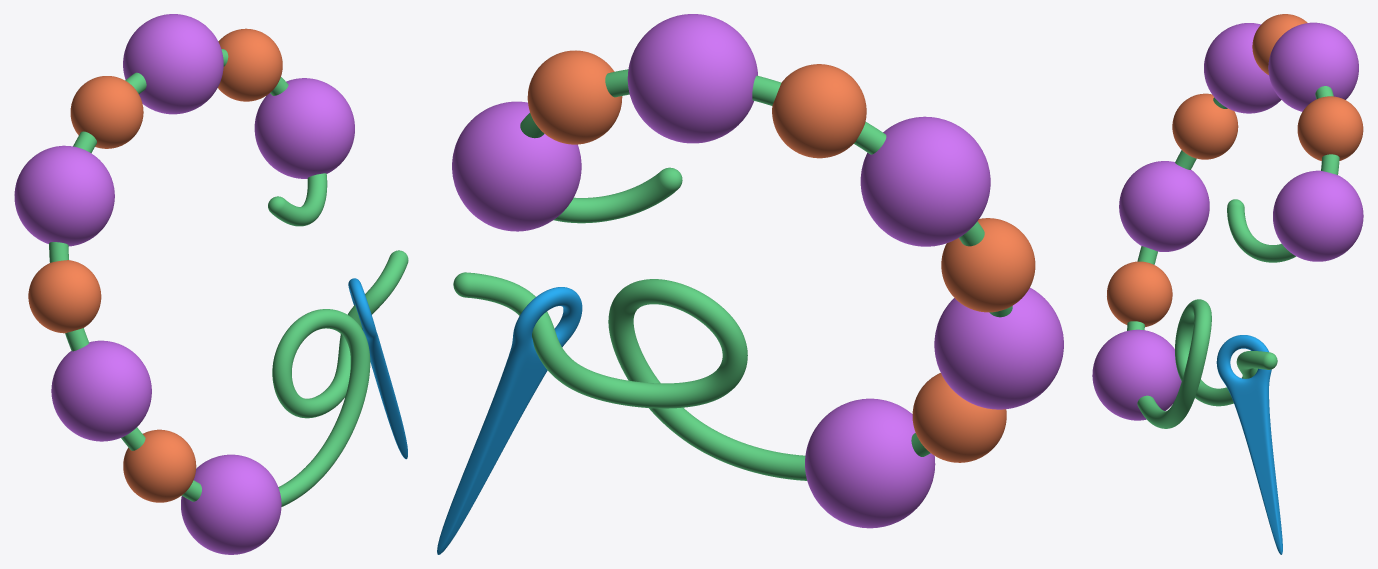
Rendered from 17. Beadwork.glb.
3 views of the same model, side by side, from view 1: azimuth 30°, elevation 25°; view 2: azimuth 150°, elevation 25°; view 3: azimuth 270°, elevation 25° (orthographic). The views are drawn at different scales.
Parts seen in each view (by area): view 1: Beads, Sphere.034, Sphere.036, Sphere.040, Sphere.038, Beads.001, Sphere.035, Sphere.033, Sphere.037, Sphere.039, Needle; view 2: Beads, Sphere.038, Sphere.036, Beads.001, Sphere.040, Sphere.034, Needle, Sphere.037, Sphere.039, Sphere.035, Sphere.033; view 3: Beads, Sphere.040, Sphere.034, Beads.001, Sphere.038, Needle, Sphere.036, Sphere.033, Sphere.039, Sphere.035, Sphere.037.
Boxes of the visible parts, x1,y1,x2,y2 form: Beads: (49,49,408,506); Sphere.034: (51,340,151,441); Sphere.036: (14,145,114,246); Sphere.040: (254,78,354,178); Sphere.038: (123,14,223,114); Beads.001: (181,454,281,554); Sphere.035: (28,260,101,333); Sphere.033: (123,429,196,502); Sphere.037: (70,76,143,148); Sphere.039: (218,28,282,101); Needle: (348,278,407,459); Beads: (453,69,1012,480); Sphere.038: (627,14,757,143); Sphere.036: (860,116,990,246); Beads.001: (805,398,935,528); Sphere.040: (452,101,581,231); Sphere.034: (934,287,1063,409); Needle: (437,287,582,554); Sphere.037: (772,64,866,158); Sphere.039: (527,50,622,144); Sphere.035: (941,218,1035,312); Sphere.033: (912,373,1006,462); Beads: (1127,86,1339,428); Sphere.040: (1273,170,1363,261); Sphere.034: (1119,161,1209,251); Beads.001: (1092,329,1181,420); Sphere.038: (1268,22,1358,111); Needle: (1216,335,1282,554); Sphere.036: (1204,23,1281,113); Sphere.033: (1107,261,1172,326); Sphere.039: (1297,96,1363,160); Sphere.035: (1172,93,1238,159); Sphere.037: (1252,14,1307,74).
Bounding box in the file's own units: 0.4337 × 0.4779 × 0.2711.
